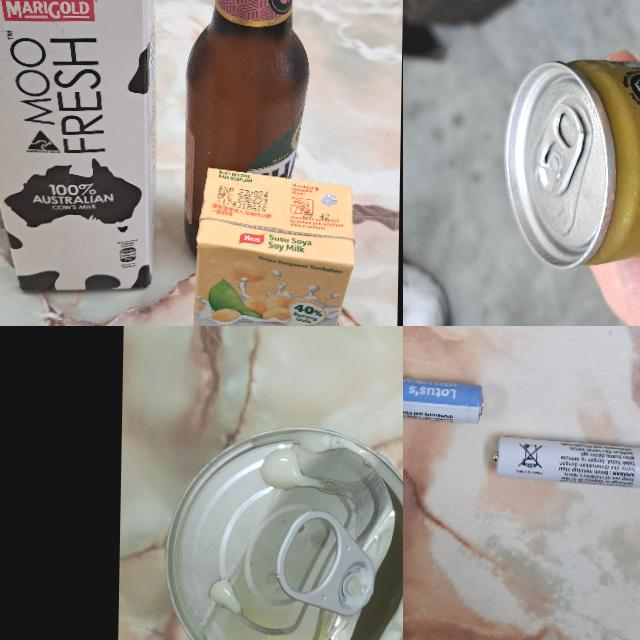aba de lata: (276, 508, 376, 618), (537, 98, 591, 196)
bateria: (490, 435, 640, 491), (403, 370, 485, 425)
caixinha: (0, 0, 158, 292), (192, 162, 356, 326)
garrafa de vidro: (183, 0, 311, 259)
lata: (161, 421, 403, 640), (501, 59, 640, 272)
